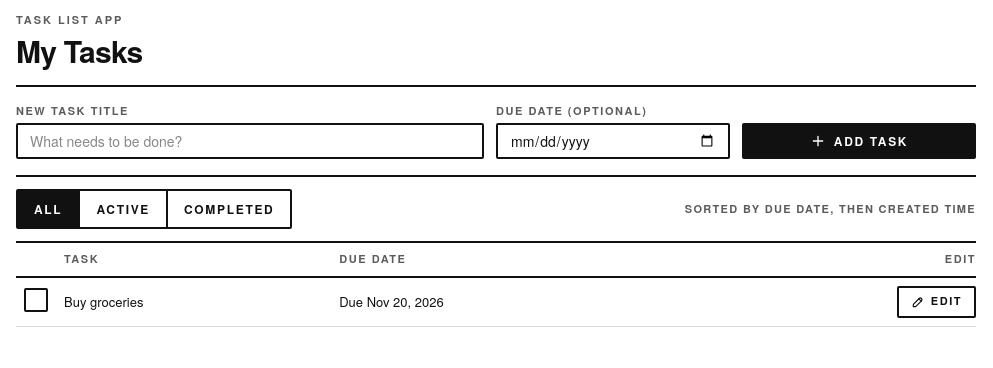
Scenario: Tasks screen › [toggleDone] shows an error message when PATCH fails
Check: the text "Buy groceries" is shown, box x1=64 y1=292 x2=143 y2=311
Click the button named "Mark \"Buy groceries\" as done". click: (36,300)
box: x1=24 y1=288 x2=48 y2=312
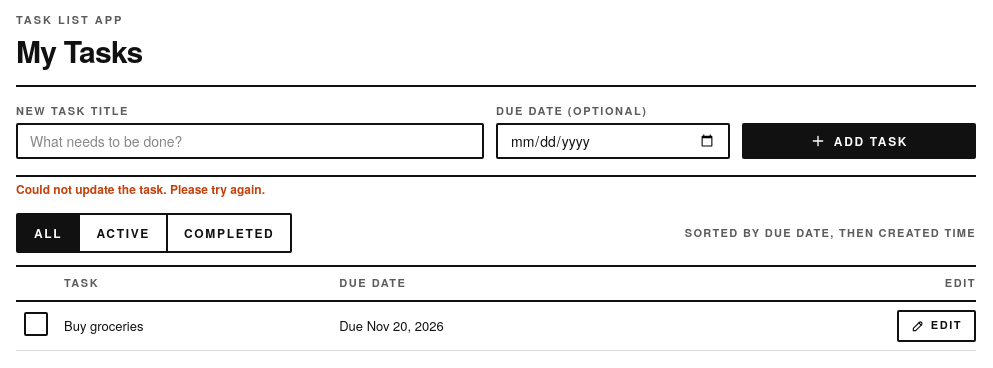
Check: the text "Could not update the task. Please try again." is shown, box x1=16 y1=180 x2=265 y2=198
